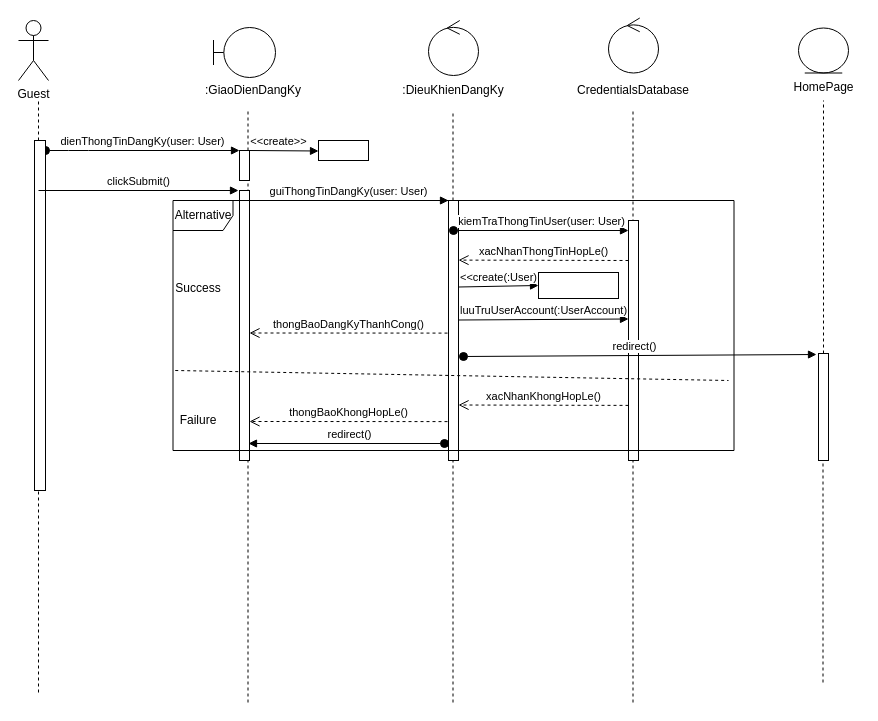
Some shapes in this 878 by 721 pixel diagram are drawn without their labels. The centre of each missing label's shape, as x and y in pixels:
":User" belongs at [343,150].
":UserAccount" belongs at [578,285].
